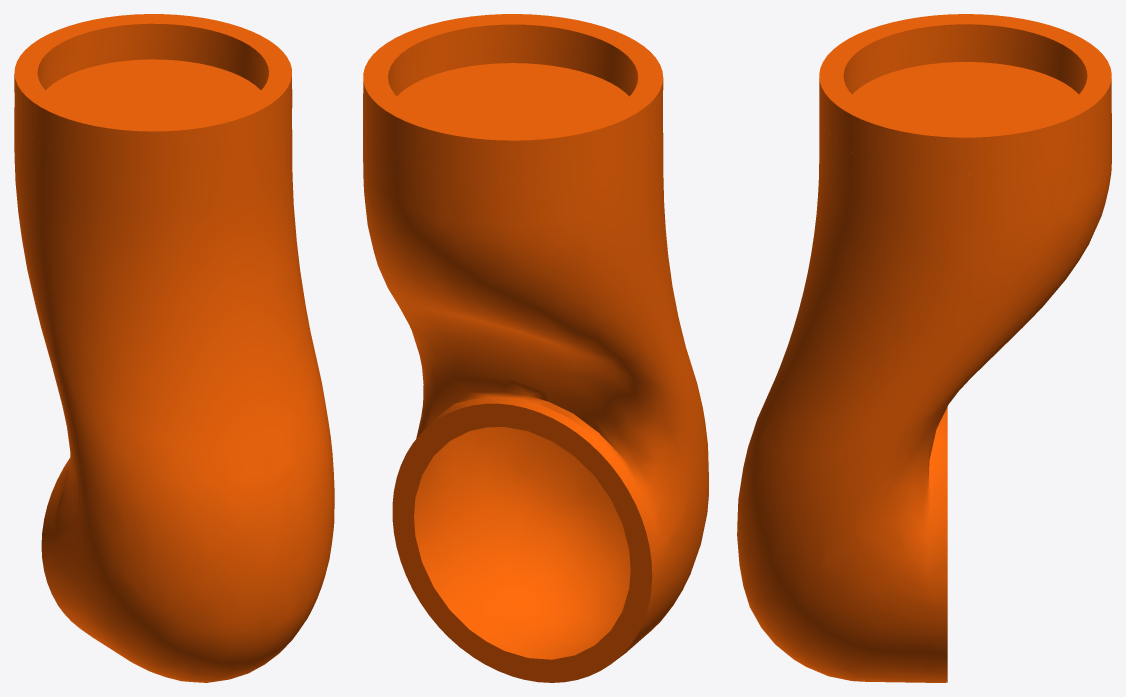
The model's file is kuka-link4.obj.
The picture shows the model from 3 angles, left to right: view 1: azimuth 30°, elevation 25°; view 2: azimuth 150°, elevation 25°; view 3: azimuth 270°, elevation 25°; orthographic projection. The views are drawn at different scales.
Parts seen in each view (by area): view 1: LINK4_object.005; view 2: LINK4_object.005; view 3: LINK4_object.005.
Boxes of the visible parts, <box> form: LINK4_object.005: <box>14,14,334,682</box>; LINK4_object.005: <box>363,14,708,682</box>; LINK4_object.005: <box>737,14,1111,682</box>.
Size of the model in its own units: 0.12 by 0.2686 by 0.1537.
